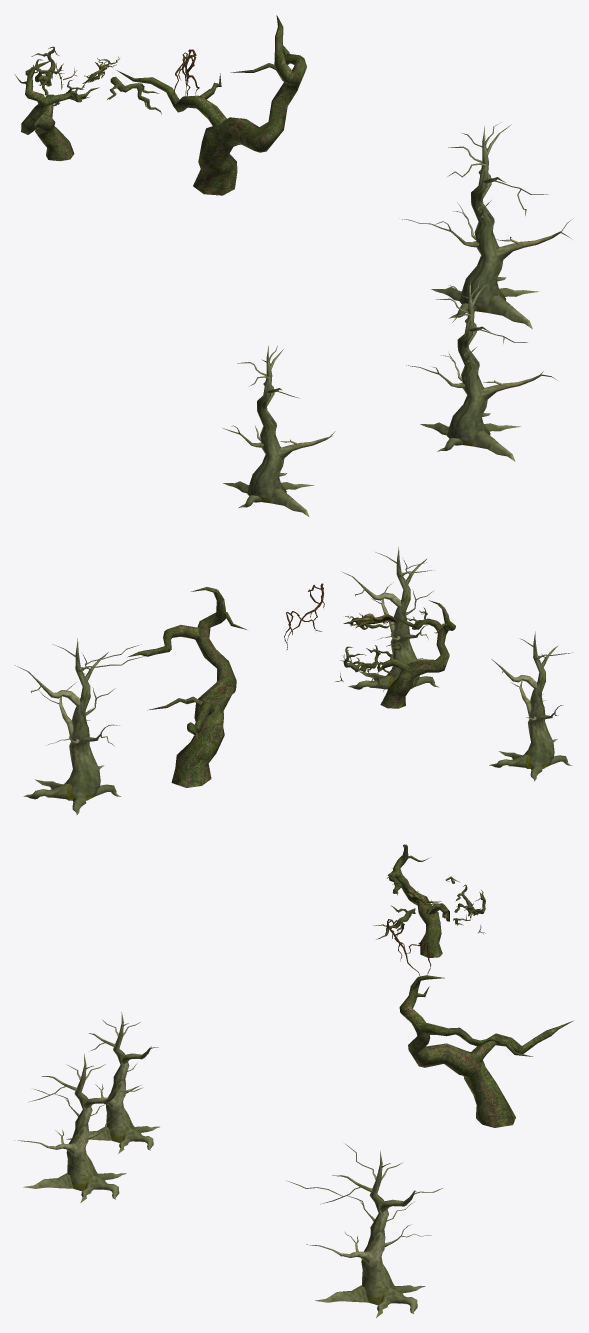
Rendered from s_battle_01_tree.FBX.
The picture shows the model from 3 angles, top to bottom: view 1: azimuth 30°, elevation 25°; view 2: azimuth 150°, elevation 25°; view 3: azimuth 270°, elevation 25°; orthographic projection. The views are drawn at different scales.
Visible parts, largest first — view 1: tree4, tree3, tree2, tree01, tree7, tree8; view 2: tree4, tree3, tree01, tree2, tree7, tree8, tree9, tree5; view 3: tree4, tree3, tree2, tree01, tree7, tree8.
Part boxes in pixels (x1,y1,x2,y2): tree4: (116,15,306,195); tree3: (402,122,573,329); tree2: (406,277,557,461); tree01: (223,345,335,516); tree7: (14,60,99,161); tree8: (53,57,161,114); tree4: (127,587,246,787); tree3: (15,638,144,814); tree01: (489,631,572,781); tree2: (341,547,439,689); tree7: (373,600,455,708); tree8: (343,613,398,691); tree9: (335,645,380,681); tree5: (284,583,324,650); tree4: (399,975,573,1127); tree3: (287,1144,442,1317); tree2: (14,1053,142,1202); tree01: (66,1012,159,1153); tree7: (387,844,449,958); tree8: (373,887,468,939).
Bounding box in the file's own units: 318 × 197 × 360.
Materials: 1 (1 with a texture image).
